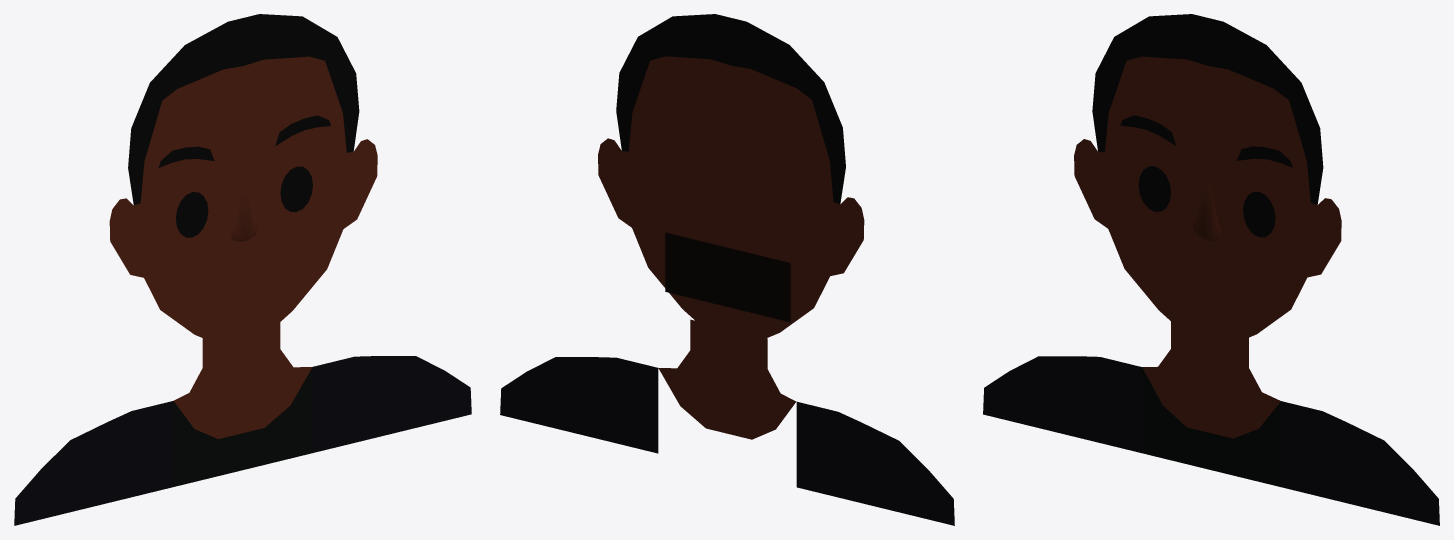
Rendered from Face_voice_SKM.fbx.
3 views of the same model, side by side, from view 1: azimuth 30°, elevation 25°; view 2: azimuth 150°, elevation 25°; view 3: azimuth 330°, elevation 25° (orthographic).
Visible parts, largest first — view 1: Face, Body, Eyes, Nose; view 2: Face, Body, Back; view 3: Face, Body, Eyes, Nose.
Boxes of the visible parts, bbox=[...] form: Face: bbox=[109, 14, 377, 344]; Body: bbox=[14, 322, 471, 525]; Eyes: bbox=[158, 115, 330, 237]; Nose: bbox=[229, 182, 259, 241]; Face: bbox=[598, 14, 864, 337]; Body: bbox=[500, 319, 954, 525]; Back: bbox=[665, 232, 790, 322]; Face: bbox=[1074, 14, 1341, 344]; Body: bbox=[983, 321, 1439, 525]; Eyes: bbox=[1120, 115, 1292, 237]; Nose: bbox=[1192, 182, 1221, 241].
Size of the model in its own units: 81.21 by 77.04 by 1.69.
